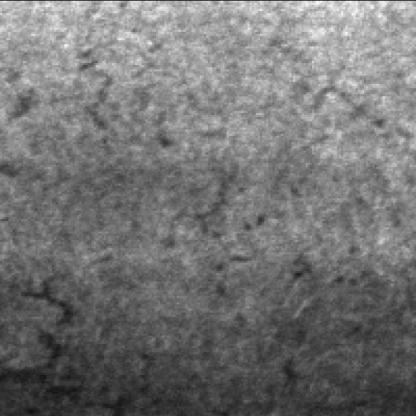crazing: (0, 274, 302, 414), (71, 0, 229, 235)
